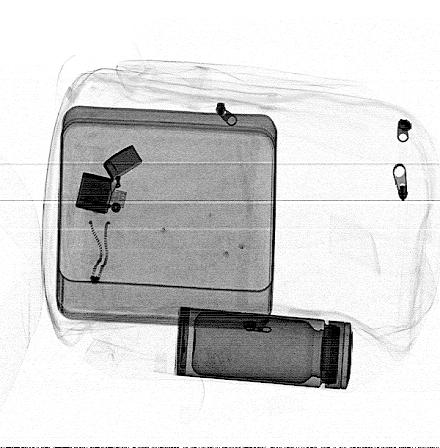Lighter: (75, 144, 144, 215)
